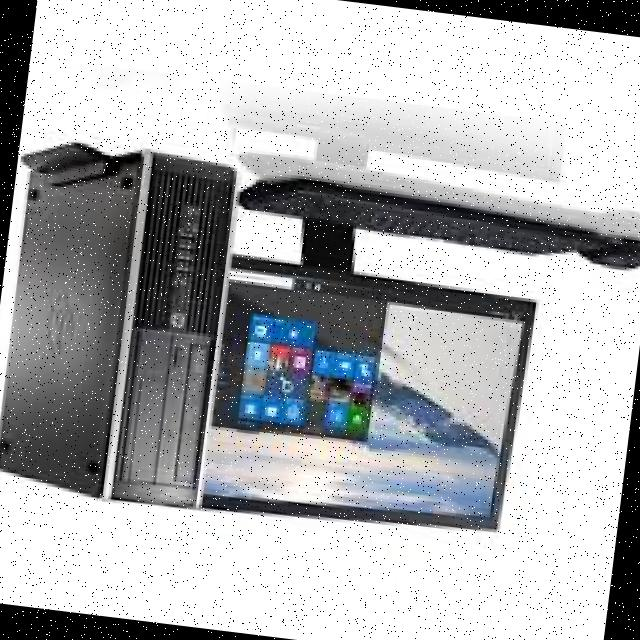Computer: (0, 132, 245, 509)
Monitor: (170, 257, 550, 540)
